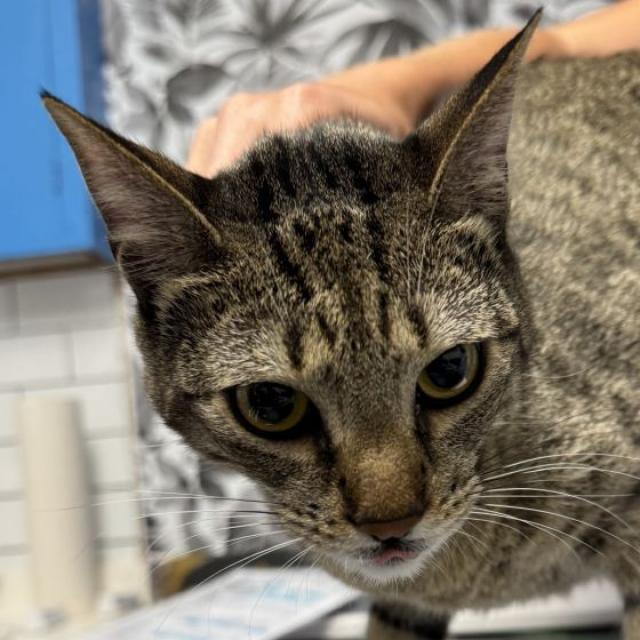domestic_short_hair_cat: (23, 1, 581, 604)
